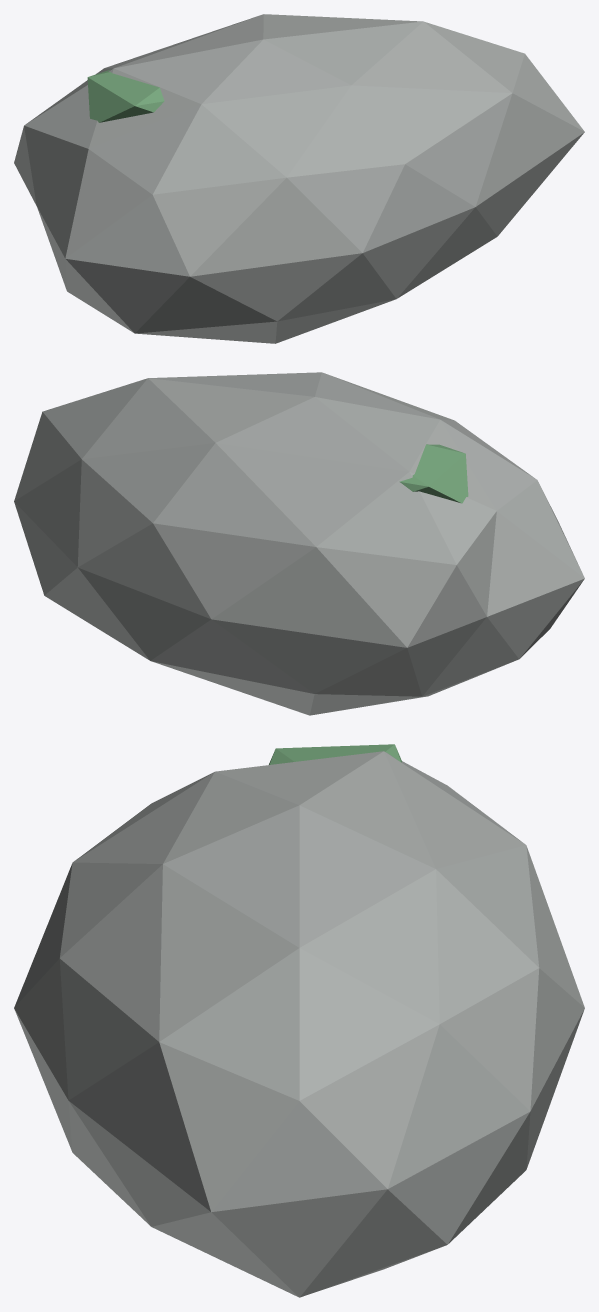
File: myb_forest_rock_mossy_a.fbx
3 renders of one model, top to bottom at view 1: azimuth 30°, elevation 25°; view 2: azimuth 150°, elevation 25°; view 3: azimuth 270°, elevation 25°, orthographic. The views are drawn at different scales.
Parts seen in each view (by area): view 1: myb_forest_rock_mossy_a; view 2: myb_forest_rock_mossy_a; view 3: myb_forest_rock_mossy_a.
Boxes of the visible parts, x1=… form: myb_forest_rock_mossy_a: x1=14, y1=14, x2=584, y2=343; myb_forest_rock_mossy_a: x1=14, y1=372, x2=584, y2=715; myb_forest_rock_mossy_a: x1=14, y1=744, x2=584, y2=1297.
Bounding box in the file's own units: 1.93 × 1 × 1.28.
